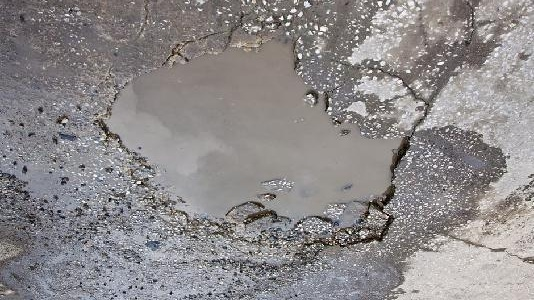pothole: (92, 33, 413, 250)
